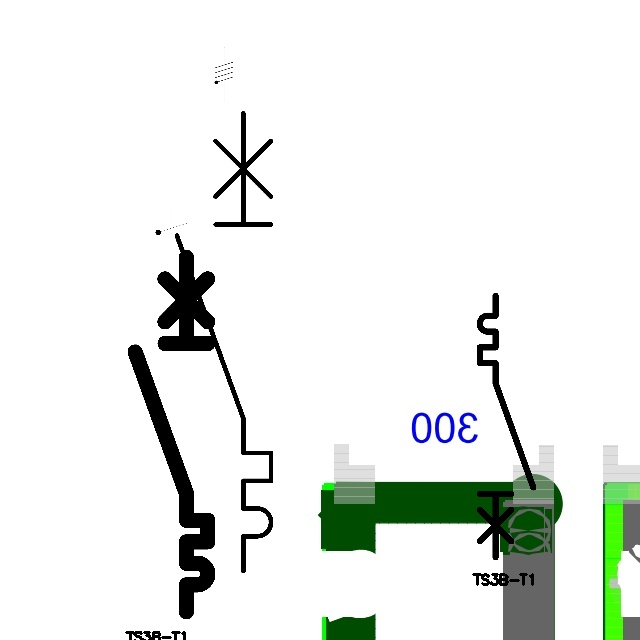interruptor_termomagnetico: (165, 101, 283, 583), (126, 248, 217, 621), (473, 289, 540, 564)
